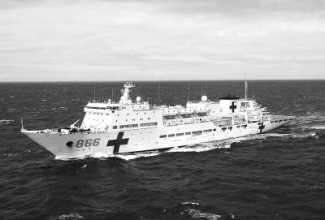warship: (21, 72, 285, 160)
